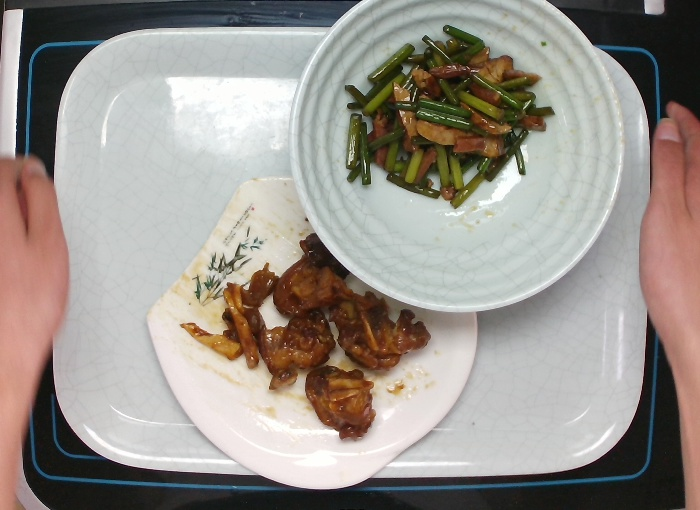JYsf-Da_Tang_Wan: (283, 1, 627, 315)
JYsf-Mian_Pan: (142, 172, 481, 494)
